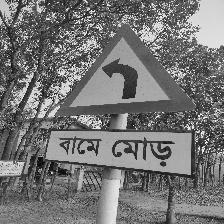Left-Turn: (49, 23, 198, 180)
